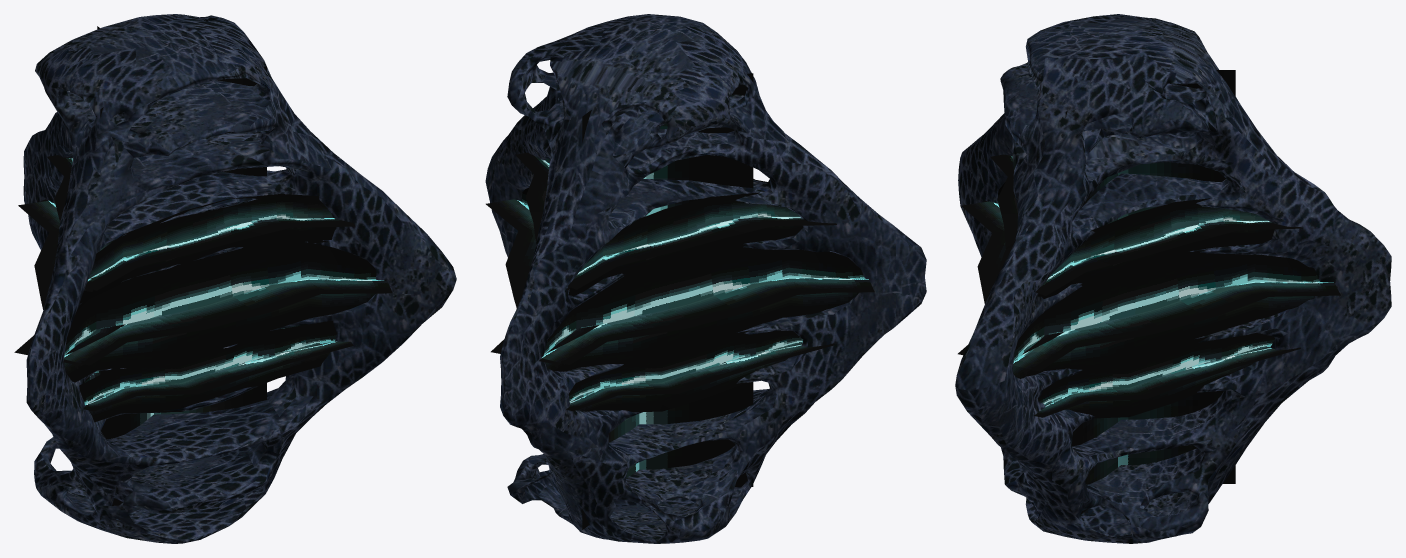
The model's file is af_dummy_battery.fbx.
3 renders of one model, left to right at view 1: azimuth 30°, elevation 25°; view 2: azimuth 150°, elevation 25°; view 3: azimuth 270°, elevation 25°, orthographic.
Parts seen in each view (by area): view 1: 1, 0; view 2: 1, 0; view 3: 1, 0.
Part boxes in pixels (x1,y1,x2,y2): 1: (23, 14, 456, 543); 0: (14, 26, 392, 519); 1: (485, 14, 926, 543); 0: (486, 73, 874, 529); 1: (955, 14, 1391, 543); 0: (958, 70, 1340, 514).
Bounding box in the file's own units: 0.2647 × 0.2843 × 0.2303.
